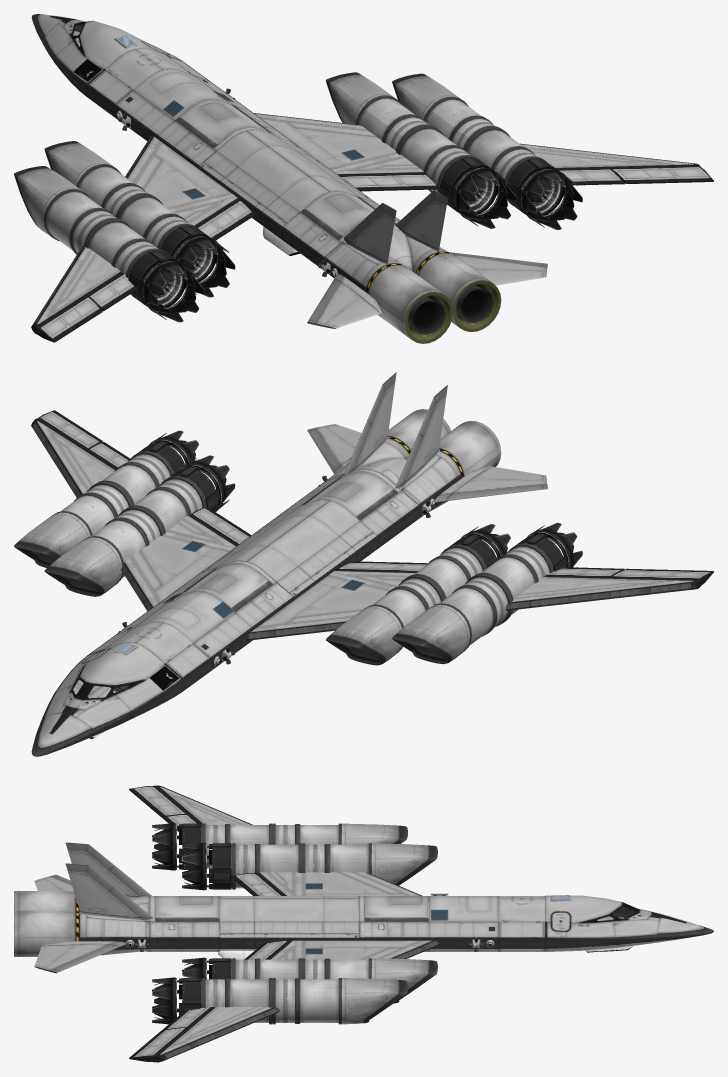
Rendered from jsp_starliner_4_ssto_modified.gltf.
3 views of the same model, one above another, from view 1: azimuth 30°, elevation 25°; view 2: azimuth 150°, elevation 25°; view 3: azimuth 270°, elevation 25° (orthographic). The views are drawn at different scales.
Visible parts, largest first — view 1: BayDoorL2.002, front1, FuselageShortLFO.002, FuselageShortLiquid.001, Delta.001, Delta.004, FuselageShortLFO.001, fairing.004, fairing.001, fueltank.004, Bicoupler.001, Swept1.004 (+38 smaller); view 2: front1, BayDoorL2.002, Delta.004, FuselageShortLFO.001, Delta.001, FuselageShortLiquid.001, FuselageShortLFO.002, Swept1.004, Bicoupler.001, RampIntake.002, RampIntake.003, RampIntake.008 (+36 smaller); view 3: front1, BayDoorL1.002, FuselageShortLFO.001, FuselageShortLiquid.001, FuselageShortLFO.002, fueltank.002, Delta.001, Swept1.001, fairing.001, ctrlSrf2.001, RampIntake.001, Delta.004 (+33 smaller).
Boxes of the visible parts, x1,y1,x2,y2 form: BayDoorL2.002: (203, 131, 329, 222); front1: (31, 14, 182, 96); FuselageShortLFO.002: (156, 99, 293, 168); FuselageShortLiquid.001: (115, 68, 252, 141); Delta.001: (254, 113, 402, 172); Delta.004: (125, 136, 235, 211); FuselageShortLFO.001: (282, 191, 399, 268); fairing.004: (368, 265, 452, 343); fairing.001: (418, 253, 501, 331); fueltank.004: (43, 188, 125, 254); Bicoupler.001: (323, 225, 448, 291); Swept1.004: (31, 245, 121, 334); front1: (31, 642, 183, 756); BayDoorL2.002: (247, 500, 372, 592); Delta.004: (246, 572, 394, 640); FuselageShortLFO.001: (282, 469, 419, 548); Delta.001: (121, 531, 233, 611); FuselageShortLiquid.001: (116, 591, 252, 670); FuselageShortLFO.002: (157, 560, 294, 630); Swept1.004: (505, 577, 702, 610); Bicoupler.001: (324, 438, 461, 517); RampIntake.002: (392, 604, 469, 664); RampIntake.003: (44, 537, 121, 596); RampIntake.008: (326, 606, 401, 665); front1: (545, 895, 713, 951); BayDoorL1.002: (219, 898, 359, 933); FuselageShortLFO.001: (149, 896, 219, 951); FuselageShortLiquid.001: (429, 896, 498, 951); FuselageShortLFO.002: (359, 896, 428, 951); fueltank.002: (272, 978, 341, 1024); Delta.001: (295, 940, 439, 959); Swept1.001: (151, 1007, 280, 1062); fairing.001: (14, 910, 75, 956); ctrlSrf2.001: (65, 863, 152, 917); RampIntake.001: (341, 978, 407, 1024); Delta.004: (295, 872, 422, 895).
Size of the model in its own units: 17.22 by 2.88 by 18.8.
Materials: 28 (28 with a texture image).
